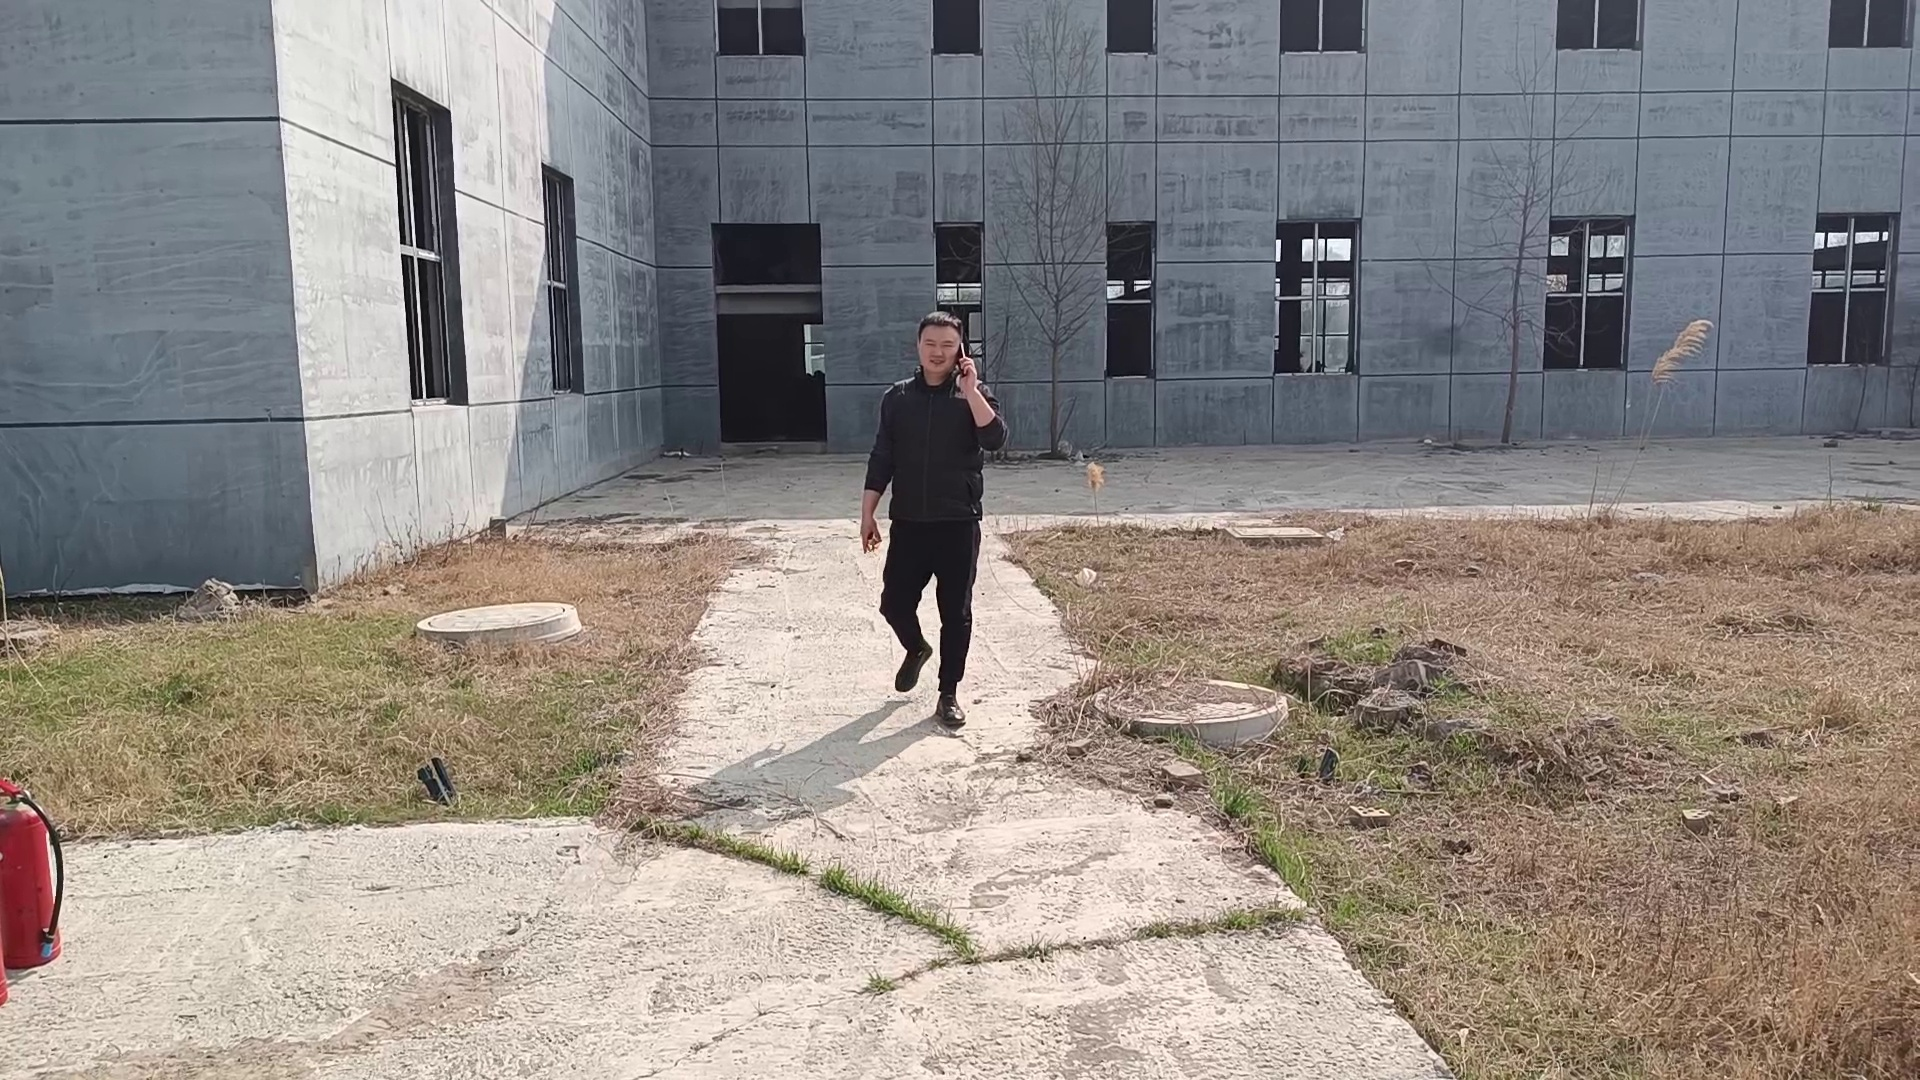phone: (915, 315, 986, 382)
